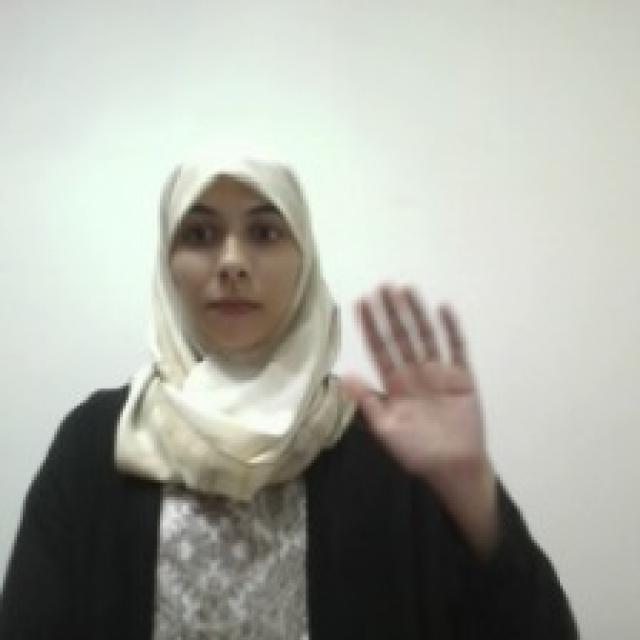Hello: (338, 274, 487, 480)
